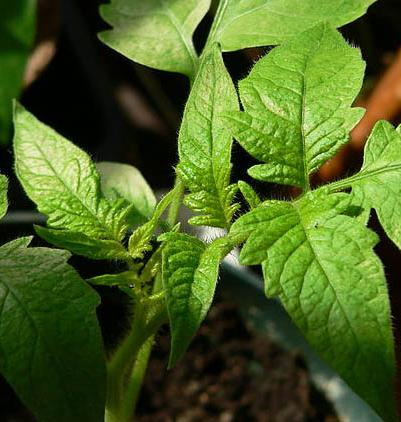Tomato leaf: (245, 175, 395, 415), (218, 19, 370, 197), (8, 103, 140, 269), (173, 35, 248, 234), (159, 229, 229, 370)
